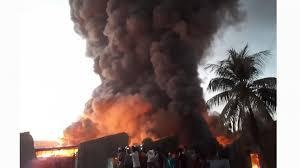fire: (206, 111, 236, 145), (249, 151, 261, 168)
